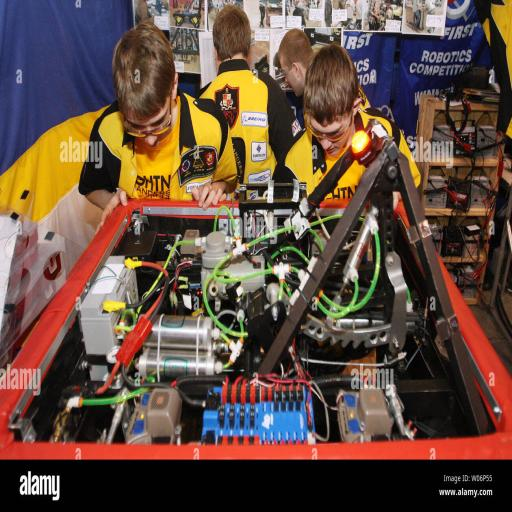robot: (13, 161, 512, 461)
